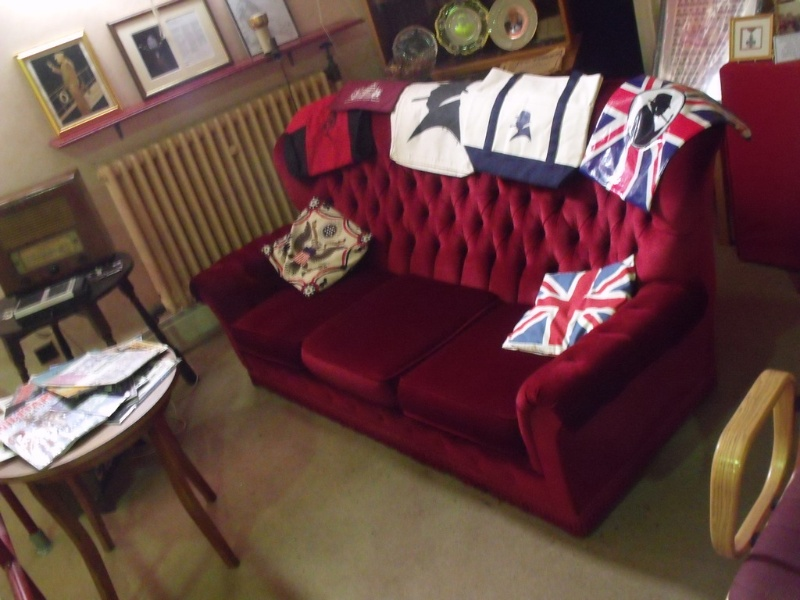couch: (198, 81, 722, 530)
